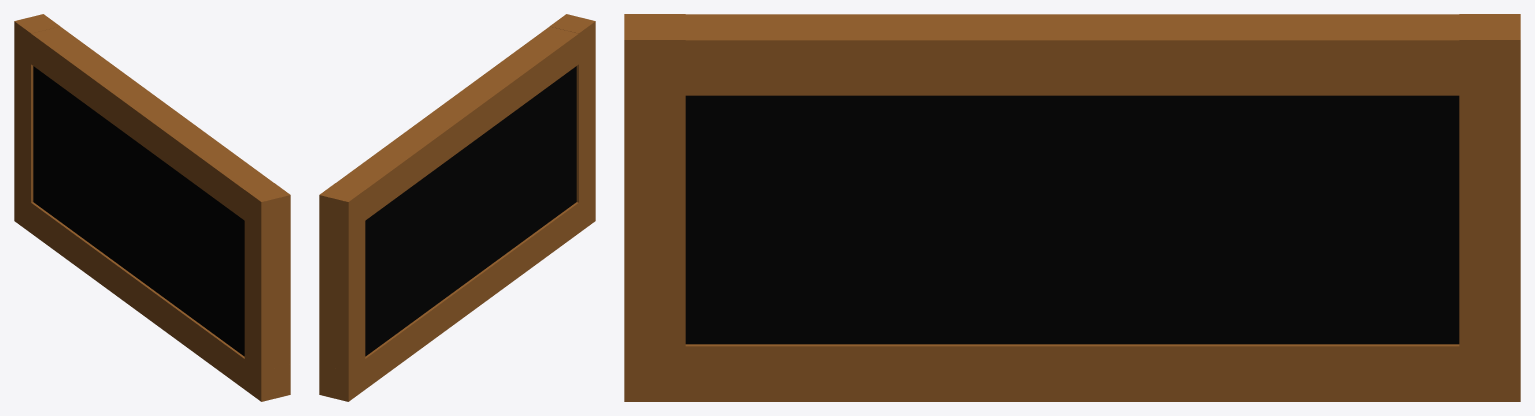
Rendered from clock.fbx.
The picture shows the model from 3 angles, left to right: view 1: azimuth 30°, elevation 25°; view 2: azimuth 150°, elevation 25°; view 3: azimuth 270°, elevation 25°; orthographic projection. The views are drawn at different scales.
Visible parts, largest first — view 1: Cube, Cube.004, Cube.002, Cube.003, Cube.001; view 2: Cube, Cube.004, Cube.002, Cube.001, Cube.003; view 3: Cube, Cube.004, Cube.002, Cube.001, Cube.003.
Part boxes in pixels (x1,y1,x2,y2): Cube: (33, 66, 244, 356); Cube.004: (14, 22, 290, 232); Cube.002: (14, 191, 290, 401); Cube.003: (244, 182, 290, 392); Cube.001: (14, 14, 59, 224); Cube: (365, 66, 576, 356); Cube.004: (319, 26, 578, 232); Cube.002: (319, 190, 595, 401); Cube.001: (319, 182, 365, 392); Cube.003: (550, 14, 595, 222); Cube: (685, 95, 1459, 344); Cube.004: (624, 14, 1520, 95); Cube.002: (624, 344, 1520, 401); Cube.001: (1459, 14, 1520, 386); Cube.003: (624, 14, 685, 386).
Size of the model in its own units: 14.21 by 92.6 by 208.
